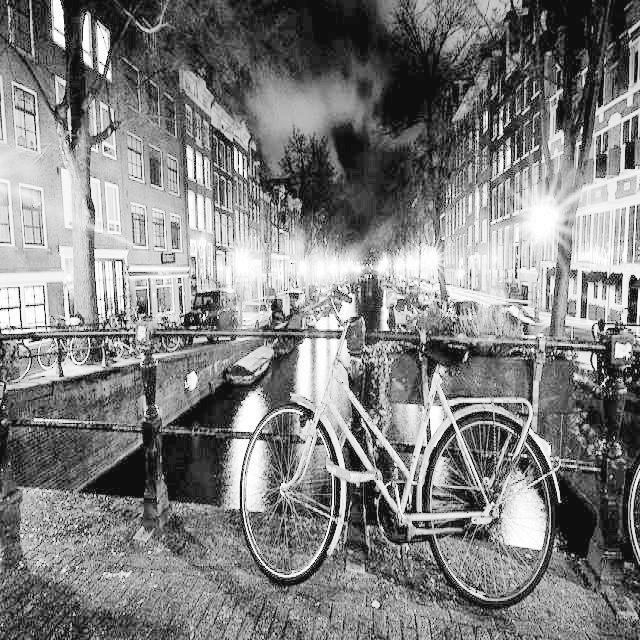Bicycle: (224, 309, 575, 610), (36, 308, 116, 377), (0, 314, 37, 395)
